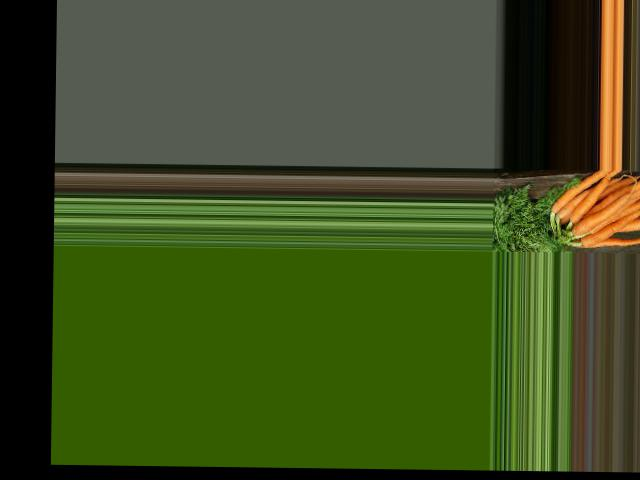carrot: (578, 207, 640, 249)
